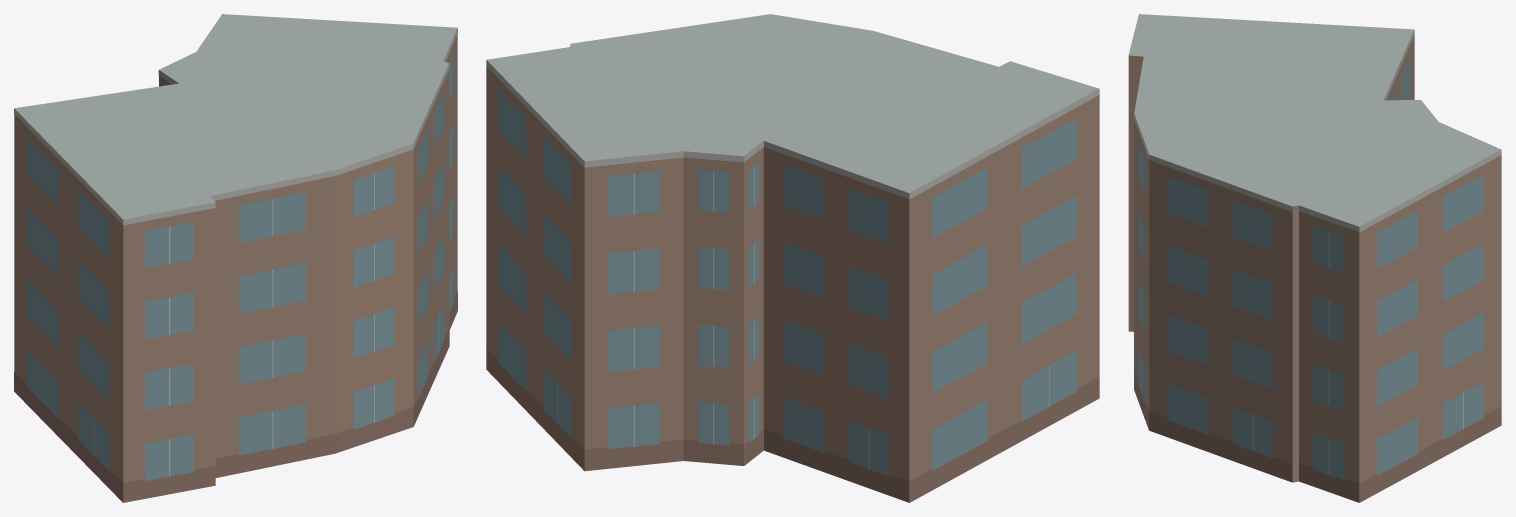
File: survey-upis-32666408.glb
3 views of the same model, side by side, from view 1: azimuth 30°, elevation 25°; view 2: azimuth 150°, elevation 25°; view 3: azimuth 270°, elevation 25° (orthographic). The views are drawn at different scales.
Parts seen in each view (by area): view 1: survey-upis-32666408.tmp; view 2: survey-upis-32666408.tmp; view 3: survey-upis-32666408.tmp.
Boxes of the visible parts, x1,y1,x2,y2 form: survey-upis-32666408.tmp: (14, 14, 457, 502); survey-upis-32666408.tmp: (486, 14, 1099, 502); survey-upis-32666408.tmp: (1128, 14, 1501, 502).
Size of the model in its own units: 20.19 by 12.2 by 14.95.
